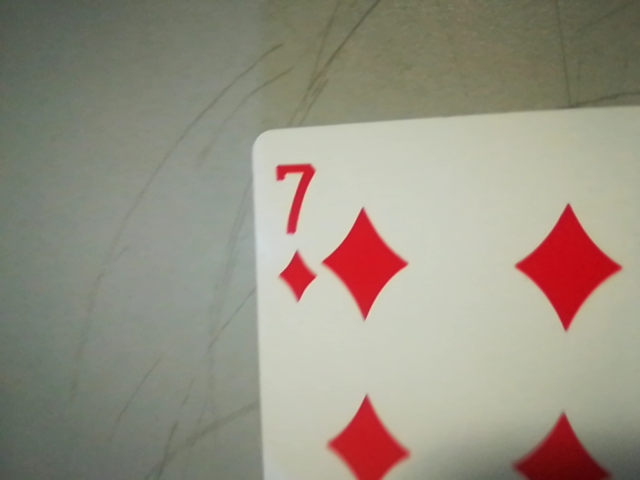fk 7: (259, 147, 323, 306)
